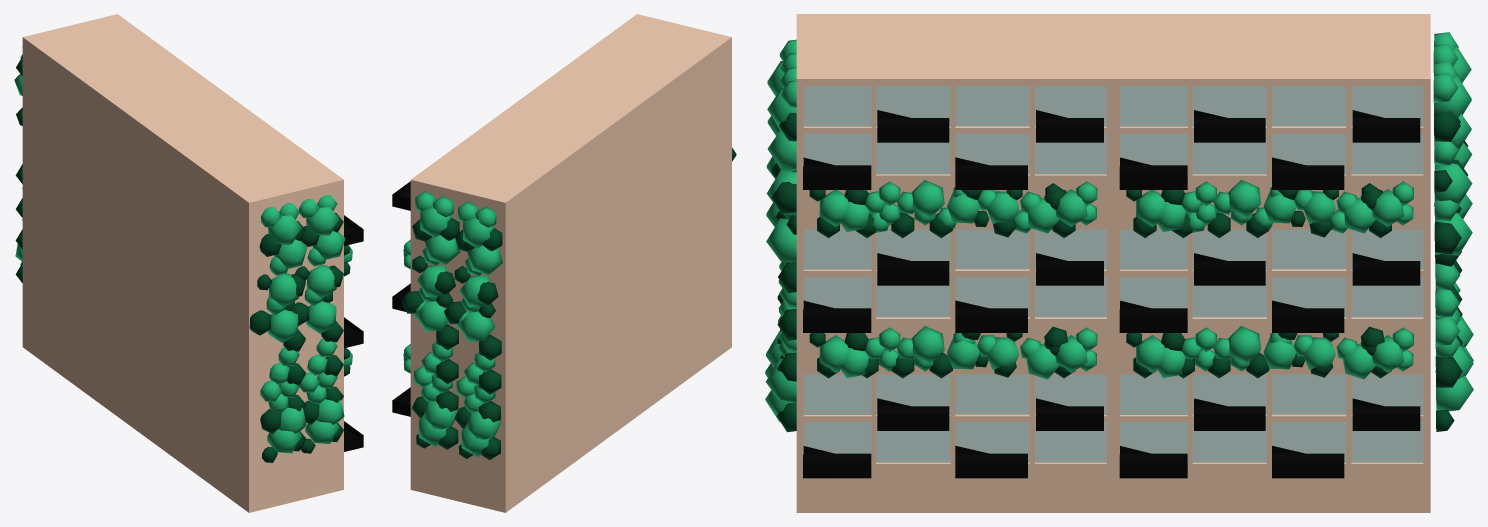
File: groenappartement 1.fbx
3 renders of one model, left to right at view 1: azimuth 30°, elevation 25°; view 2: azimuth 150°, elevation 25°; view 3: azimuth 270°, elevation 25°, orthographic. The views are drawn at different scales.
Parts seen in each view (by area): view 1: Cube.024, Cube.013, Cube.041, Cube.019, Cube, Cube.009, Icosphere.440, Icosphere.438, Icosphere.444, Icosphere.427, Icosphere.432, Icosphere.247 (+8 smaller); view 2: Cube.013, Cube.024, Cube, Cube.009, Cube.041, Cube.019, Icosphere.151, Icosphere.152, Icosphere.185, Icosphere.186, Icosphere.144, Icosphere.193 (+12 smaller); view 3: Cube.024, Cube.013, Cube.012, Cube.028, Cube.011, Cube.029, Cube.041, Cube.010, Cube.030, Cube, Cube.019, Cube.009 (+44 smaller).
Part boxes in pixels (left/top/right/bottom): Cube.024: left=135, top=97, right=343, bottom=306; Cube.013: left=22, top=14, right=230, bottom=221; Cube.041: left=135, top=326, right=343, bottom=512; Cube.019: left=135, top=222, right=343, bottom=408; Cube: left=22, top=243, right=135, bottom=429; Cube.009: left=22, top=140, right=135, bottom=325; Icosphere.440: left=306, top=301, right=336, bottom=333; Icosphere.438: left=307, top=264, right=336, bottom=298; Icosphere.444: left=306, top=207, right=339, bottom=235; Icosphere.427: left=312, top=231, right=345, bottom=260; Icosphere.432: left=305, top=420, right=339, bottom=443; Icosphere.247: left=268, top=215, right=301, bottom=242; Cube.013: left=410, top=97, right=618, bottom=304; Cube.024: left=524, top=14, right=731, bottom=222; Cube: left=410, top=327, right=618, bottom=512; Cube.009: left=410, top=224, right=618, bottom=408; Cube.041: left=618, top=243, right=731, bottom=429; Cube.019: left=618, top=139, right=731, bottom=325; Icosphere.151: left=458, top=311, right=495, bottom=341; Icosphere.152: left=467, top=245, right=502, bottom=274; Icosphere.185: left=425, top=235, right=460, bottom=264; Icosphere.186: left=416, top=301, right=448, bottom=331; Icosphere.144: left=465, top=411, right=501, bottom=439; Icosphere.193: left=422, top=400, right=457, bottom=429; Cube.024: left=796, top=14, right=1114, bottom=224; Cube.013: left=1113, top=14, right=1430, bottom=224; Cube.012: left=1120, top=86, right=1423, bottom=174; Cube.028: left=803, top=86, right=1106, bottom=174; Cube.011: left=1120, top=374, right=1423, bottom=462; Cube.029: left=803, top=374, right=1106, bottom=462; Cube.041: left=796, top=367, right=1114, bottom=512; Cube.010: left=1120, top=229, right=1423, bottom=317; Cube.030: left=803, top=229, right=1106, bottom=317; Cube: left=1113, top=367, right=1430, bottom=512; Cube.019: left=796, top=222, right=1114, bottom=367; Cube.009: left=1113, top=222, right=1430, bottom=367.
Size of the model in its own units: 3301 by 8300 by 12283.
